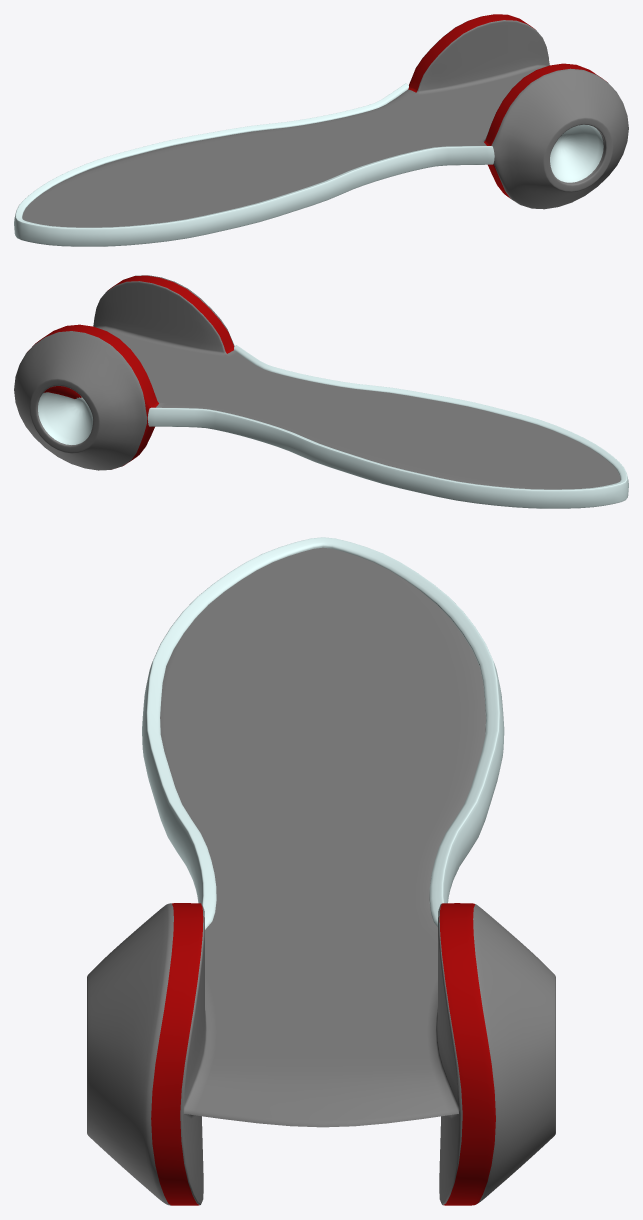
The model's file is HoverBoard03(1).fbx.
The picture shows the model from 3 angles, top to bottom: view 1: azimuth 30°, elevation 25°; view 2: azimuth 150°, elevation 25°; view 3: azimuth 270°, elevation 25°; orthographic projection. The views are drawn at different scales.
Parts seen in each view (by area): view 1: BoardMain, SideStrip; view 2: BoardMain, SideStrip; view 3: BoardMain, SideStrip.
Boxes of the visible parts, box(x1,y1,x2,y2) form: BoardMain: box(22, 14, 628, 227); SideStrip: box(14, 83, 494, 246); BoardMain: box(14, 275, 620, 489); SideStrip: box(147, 345, 628, 508); BoardMain: box(87, 547, 555, 1205); SideStrip: box(142, 537, 504, 929).
Size of the model in its own units: 0.7192 by 0.1607 by 0.2511.
